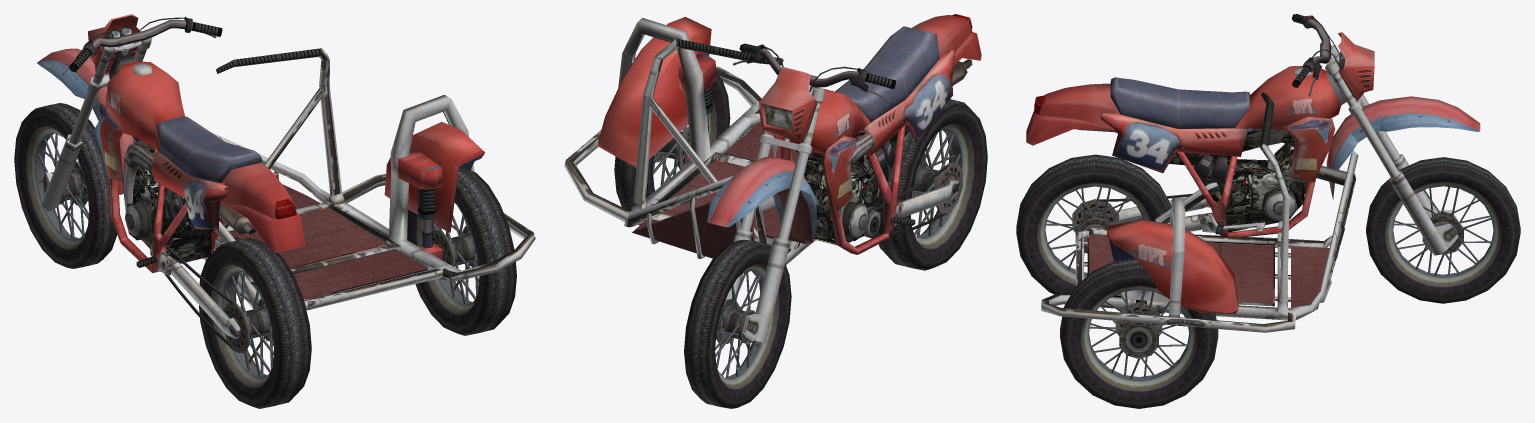
Rendered from Model_Bikes_CrossBike_Sidecar.fbx.
3 views of the same model, side by side, from view 1: azimuth 30°, elevation 25°; view 2: azimuth 150°, elevation 25°; view 3: azimuth 270°, elevation 25° (orthographic). The views are drawn at different scales.
Visible parts, largest first — view 1: Base, Wheel_rear, Wheel_front, Wheel_side; view 2: Base, Wheel_front, Wheel_rear, Wheel_side; view 3: Base, Wheel_front, Wheel_side, Wheel_rear.
Boxes of the visible parts, x1=… form: Base: x1=37, y1=14, x2=535, y2=350; Wheel_rear: x1=199, y1=237, x2=311, y2=408; Wheel_front: x1=14, y1=103, x2=117, y2=268; Wheel_side: x1=407, y1=166, x2=516, y2=335; Base: x1=564, y1=14, x2=981, y2=343; Wheel_front: x1=684, y1=239, x2=791, y2=408; Wheel_rear: x1=877, y1=99, x2=987, y2=270; Wheel_side: x1=614, y1=73, x2=730, y2=224; Base: x1=1026, y1=14, x2=1480, y2=332; Wheel_front: x1=1366, y1=157, x2=1520, y2=303; Wheel_side: x1=1060, y1=258, x2=1218, y2=408; Wheel_rear: x1=1016, y1=154, x2=1171, y2=294.
Bounding box in the file's own units: 173 × 139 × 238.
